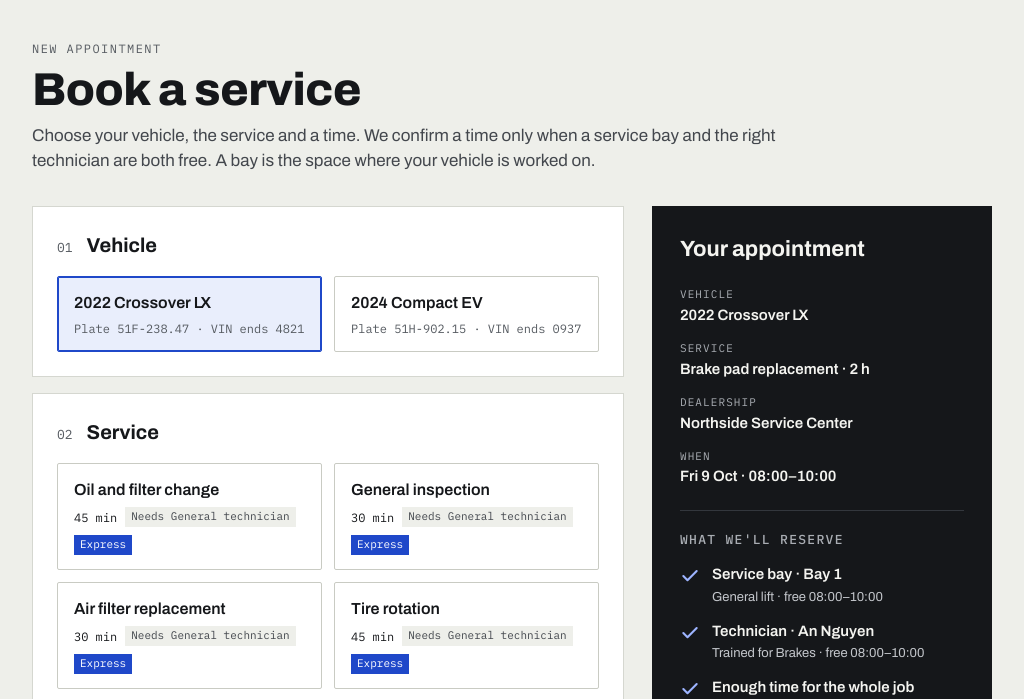
Test: Book screen › parts scenario blocks express services today
Click the button "Oil and filter change" at {"x": 190, "y": 517}, box [57, 463, 322, 570]
(page scrolled)
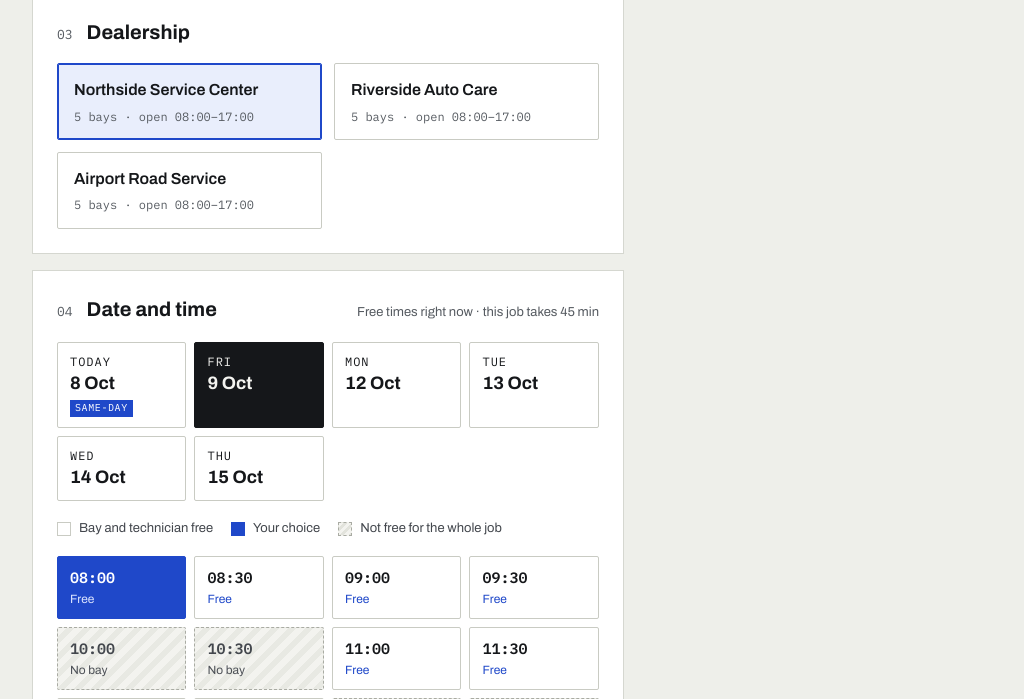
Click the button with aria-label "Today, Thu 8 Oct" at {"x": 122, "y": 385}, box [57, 342, 186, 428]
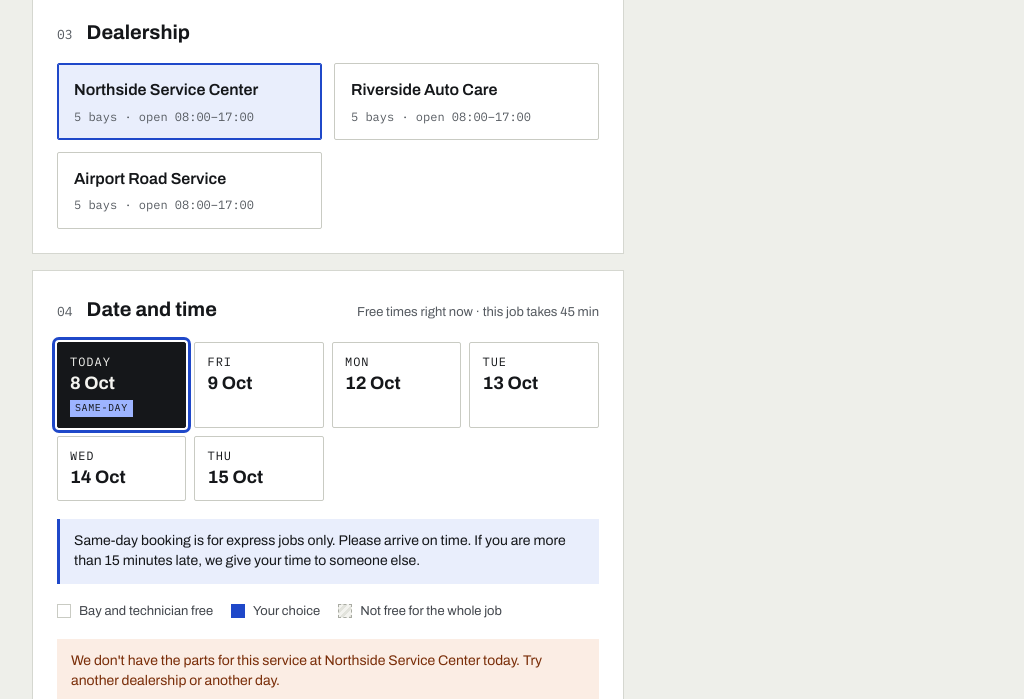
Result: the text "We don't have the parts for this service at Northside Service Center today. Try another dealership or another day." is shown at [71, 652, 542, 688]
